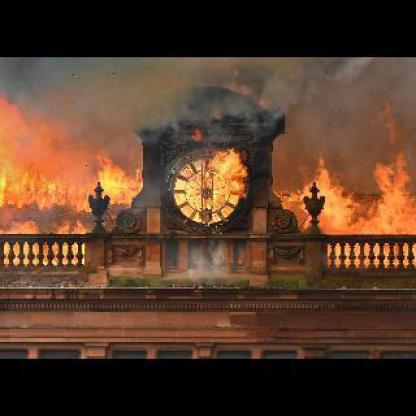Fire: (284, 151, 414, 234), (4, 152, 135, 206), (203, 145, 248, 199)
Smoke: (58, 56, 352, 142), (174, 229, 234, 282)
